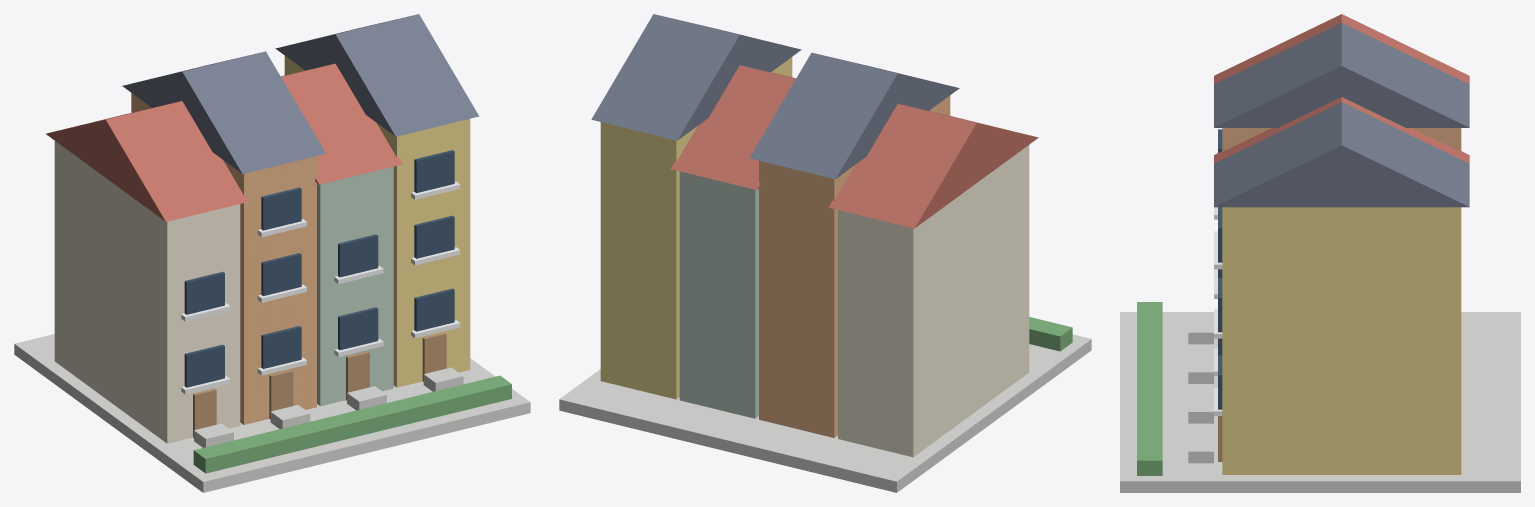
The model's file is townhouse_row.glb.
The picture shows the model from 3 angles, left to right: view 1: azimuth 30°, elevation 25°; view 2: azimuth 150°, elevation 25°; view 3: azimuth 270°, elevation 25°; orthographic projection. The views are drawn at different scales.
Parts seen in each view (by area): view 1: townhouse_row_body; view 2: townhouse_row_body; view 3: townhouse_row_body.
Part boxes in pixels (x1=…): townhouse_row_body: x1=14, y1=14, x2=530, y2=492; townhouse_row_body: x1=559, y1=14, x2=1091, y2=492; townhouse_row_body: x1=1120, y1=14, x2=1520, y2=492.
Size of the model in its own units: 0.94 by 0.89 by 0.94.
